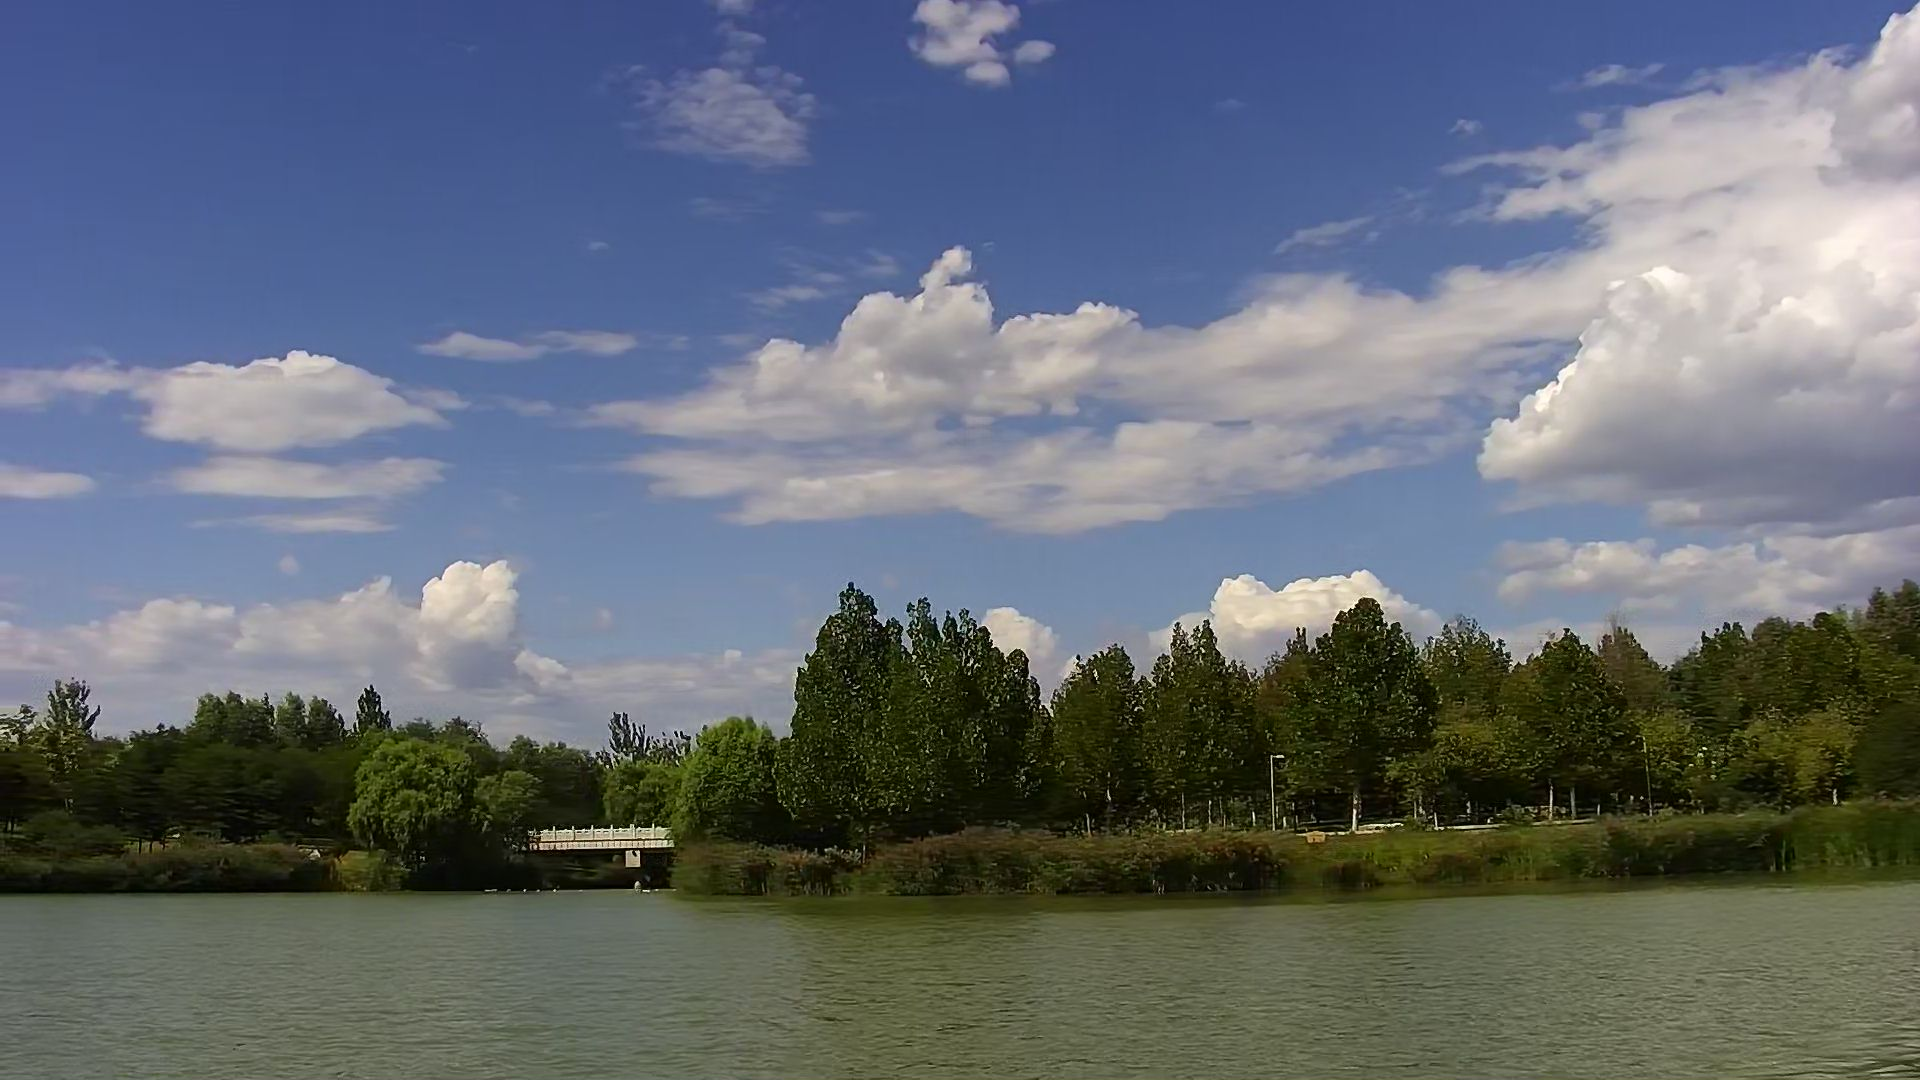bridge: (539, 824, 670, 887)
